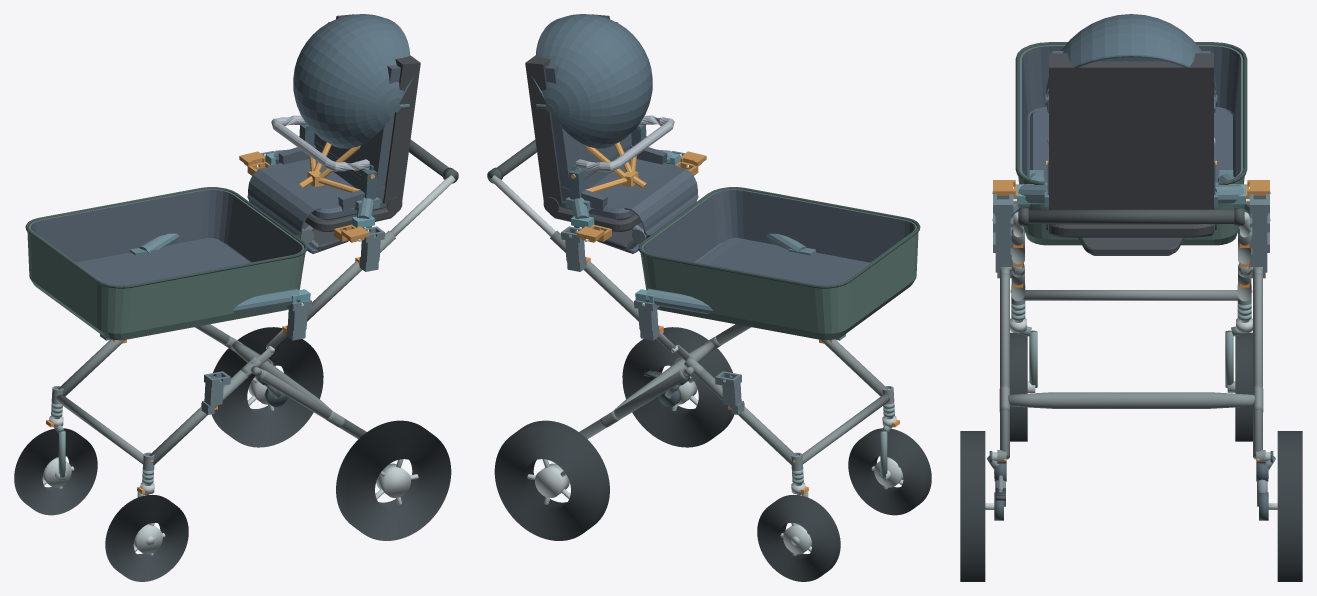
The model's file is D11_w650_state1_wheel_L.glb.
3 views of the same model, side by side, from view 1: azimuth 30°, elevation 25°; view 2: azimuth 150°, elevation 25°; view 3: azimuth 270°, elevation 25° (orthographic). The views are drawn at different scales.
Parts seen in each view (by area): view 1: D11_Lower, D11_Upper, RL_tire.008, RR_tire.008, FL_tire.008, FR_tire.008, D11_Lower_Mount_M, V46_rear_leg_-1.009, main_lower_-1.009, front_fixed_round_tube.008, main_upper_-1.009, main_lower_1.009 (+9 smaller); view 2: D11_Lower, D11_Upper, RR_tire.008, RL_tire.008, FR_tire.008, FL_tire.008, D11_Lower_Mount_M, V46_rear_leg_1.009, main_lower_1.009, front_fixed_round_tube.008, main_upper_1.009, main_lower_-1.009 (+9 smaller); view 3: D11_Upper, D11_Lower, V46_rearbar.009, RL_tire.008, RR_tire.008, round_handle.008, front_fixed_round_tube.008, FL_tire.008, FR_tire.008, V46_rear_leg_1.009, V46_rear_leg_-1.009, D11_Upper_Mount_H (+5 smaller).
Part boxes in pixels (x1=…): D11_Lower: x1=25, y1=187, x2=307, y2=340; D11_Upper: x1=247, y1=14, x2=420, y2=253; RL_tire.008: x1=336, y1=420, x2=451, y2=540; RR_tire.008: x1=211, y1=327, x2=323, y2=447; FL_tire.008: x1=105, y1=494, x2=188, y2=581; FR_tire.008: x1=14, y1=428, x2=97, y2=515; D11_Lower_Mount_M: x1=129, y1=233, x2=310, y2=313; V46_rear_leg_-1.009: x1=259, y1=370, x2=366, y2=439; main_lower_-1.009: x1=149, y1=370, x2=251, y2=465; front_fixed_round_tube.008: x1=55, y1=394, x2=143, y2=463; main_upper_-1.009: x1=307, y1=230, x2=395, y2=321; main_lower_1.009: x1=58, y1=339, x2=125, y2=396; D11_Lower: x1=638, y1=187, x2=920, y2=340; D11_Upper: x1=525, y1=14, x2=698, y2=253; RR_tire.008: x1=494, y1=420, x2=609, y2=540; RL_tire.008: x1=622, y1=327, x2=734, y2=447; FR_tire.008: x1=757, y1=494, x2=840, y2=581; FL_tire.008: x1=848, y1=428, x2=931, y2=515; D11_Lower_Mount_M: x1=635, y1=233, x2=816, y2=313; V46_rear_leg_1.009: x1=579, y1=370, x2=686, y2=439; main_lower_1.009: x1=694, y1=370, x2=796, y2=465; front_fixed_round_tube.008: x1=802, y1=394, x2=890, y2=463; main_upper_1.009: x1=550, y1=230, x2=638, y2=321; main_lower_-1.009: x1=820, y1=339, x2=887, y2=396; D11_Upper: x1=1045, y1=14, x2=1217, y2=255; D11_Lower: x1=1015, y1=42, x2=1247, y2=245; V46_rearbar.009: x1=1008, y1=392, x2=1254, y2=408; RL_tire.008: x1=960, y1=431, x2=985, y2=581; RR_tire.008: x1=1277, y1=431, x2=1302, y2=581; round_handle.008: x1=1018, y1=209, x2=1244, y2=223; front_fixed_round_tube.008: x1=1023, y1=290, x2=1239, y2=300; FL_tire.008: x1=1010, y1=332, x2=1027, y2=441; FR_tire.008: x1=1235, y1=332, x2=1252, y2=441; V46_rear_leg_1.009: x1=1253, y1=273, x2=1262, y2=459; V46_rear_leg_-1.009: x1=1000, y1=273, x2=1009, y2=459; D11_Upper_Mount_H: x1=1013, y1=182, x2=1249, y2=207.
Size of the model in its own units: 1.2 by 1.51 by 0.8171.
